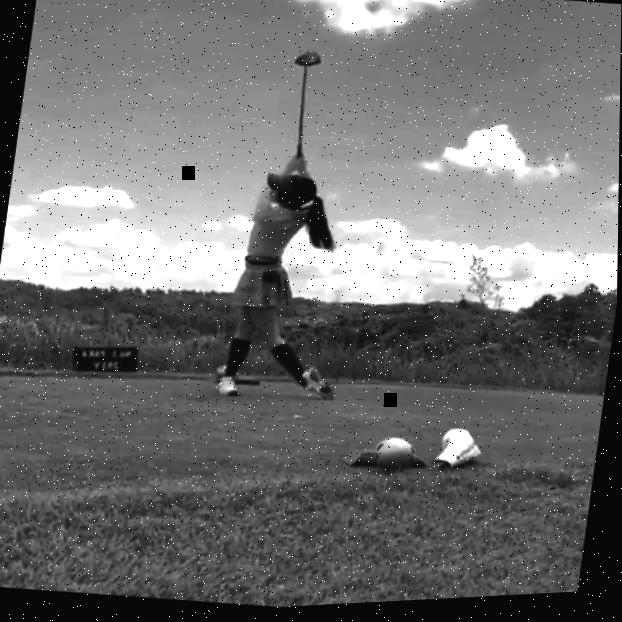ClubHead: (294, 51, 322, 71)
